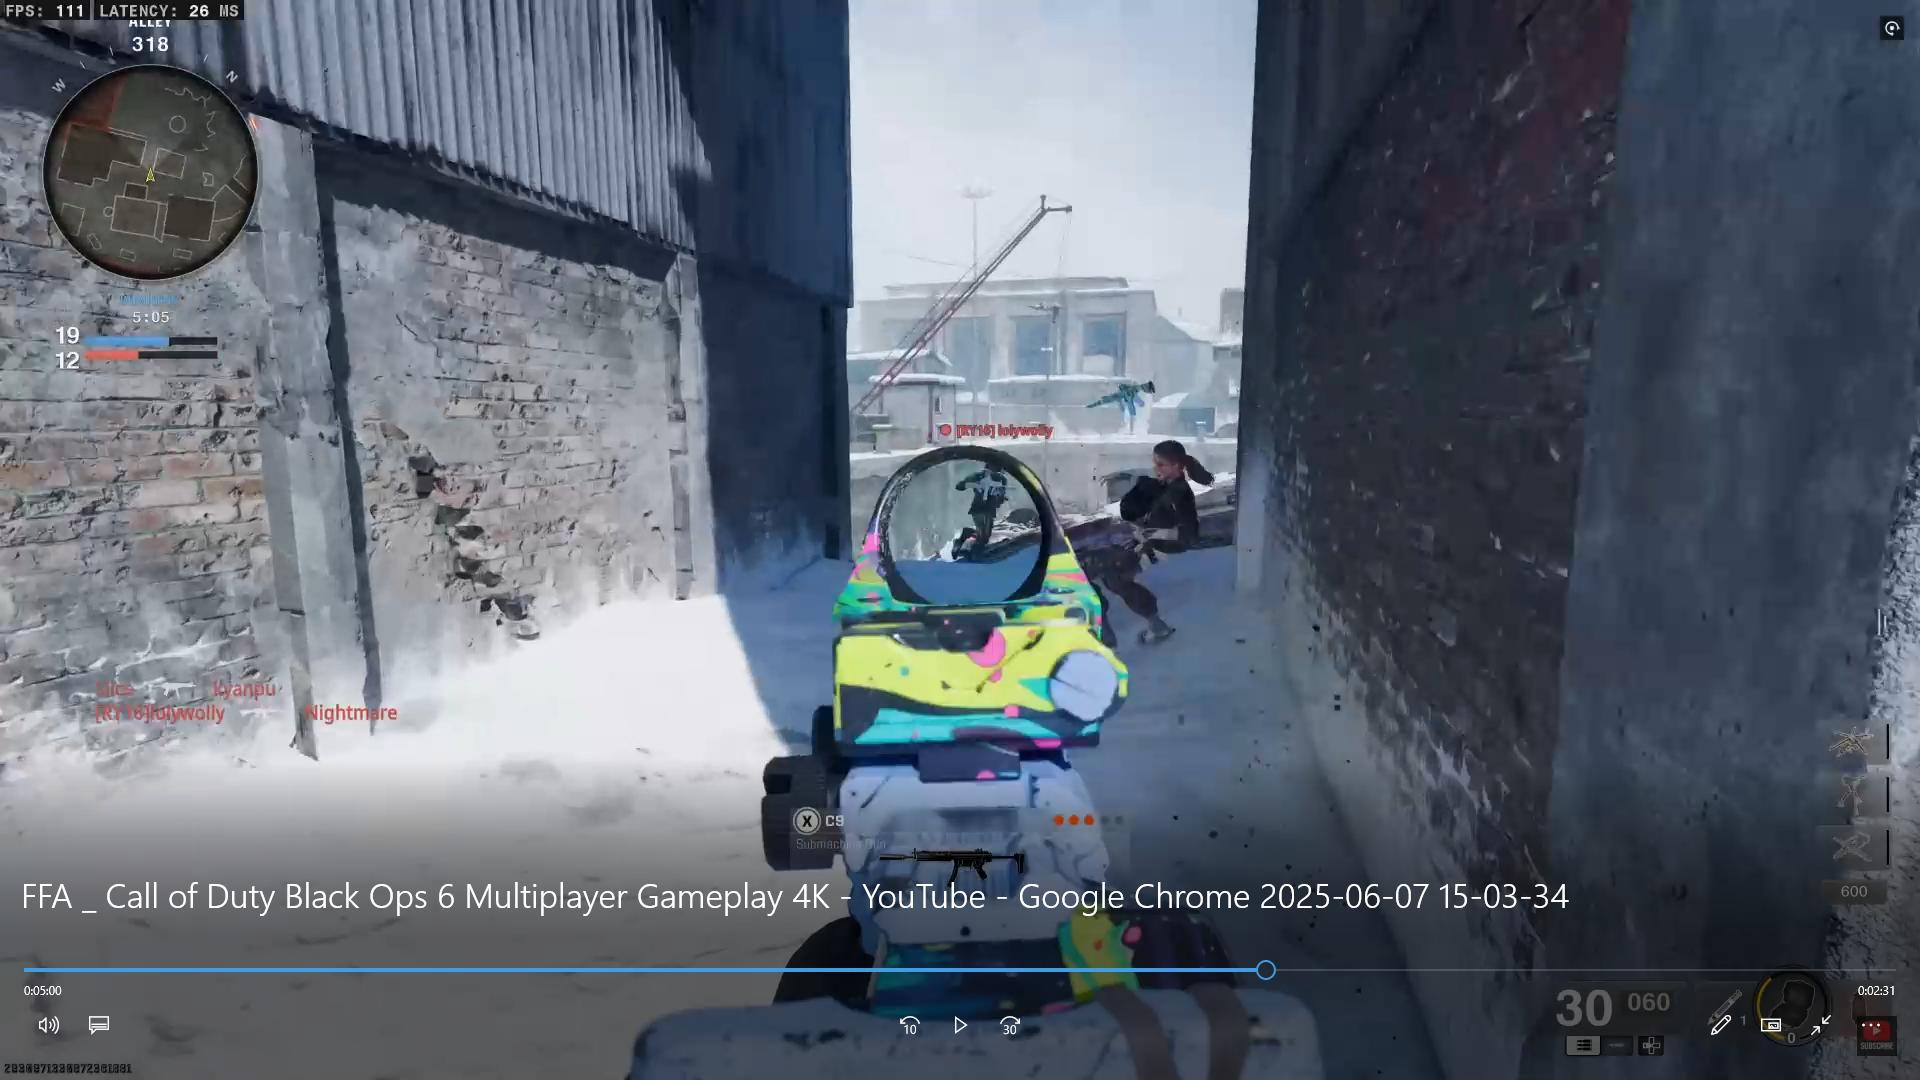Enemy: (953, 452, 1011, 562)
